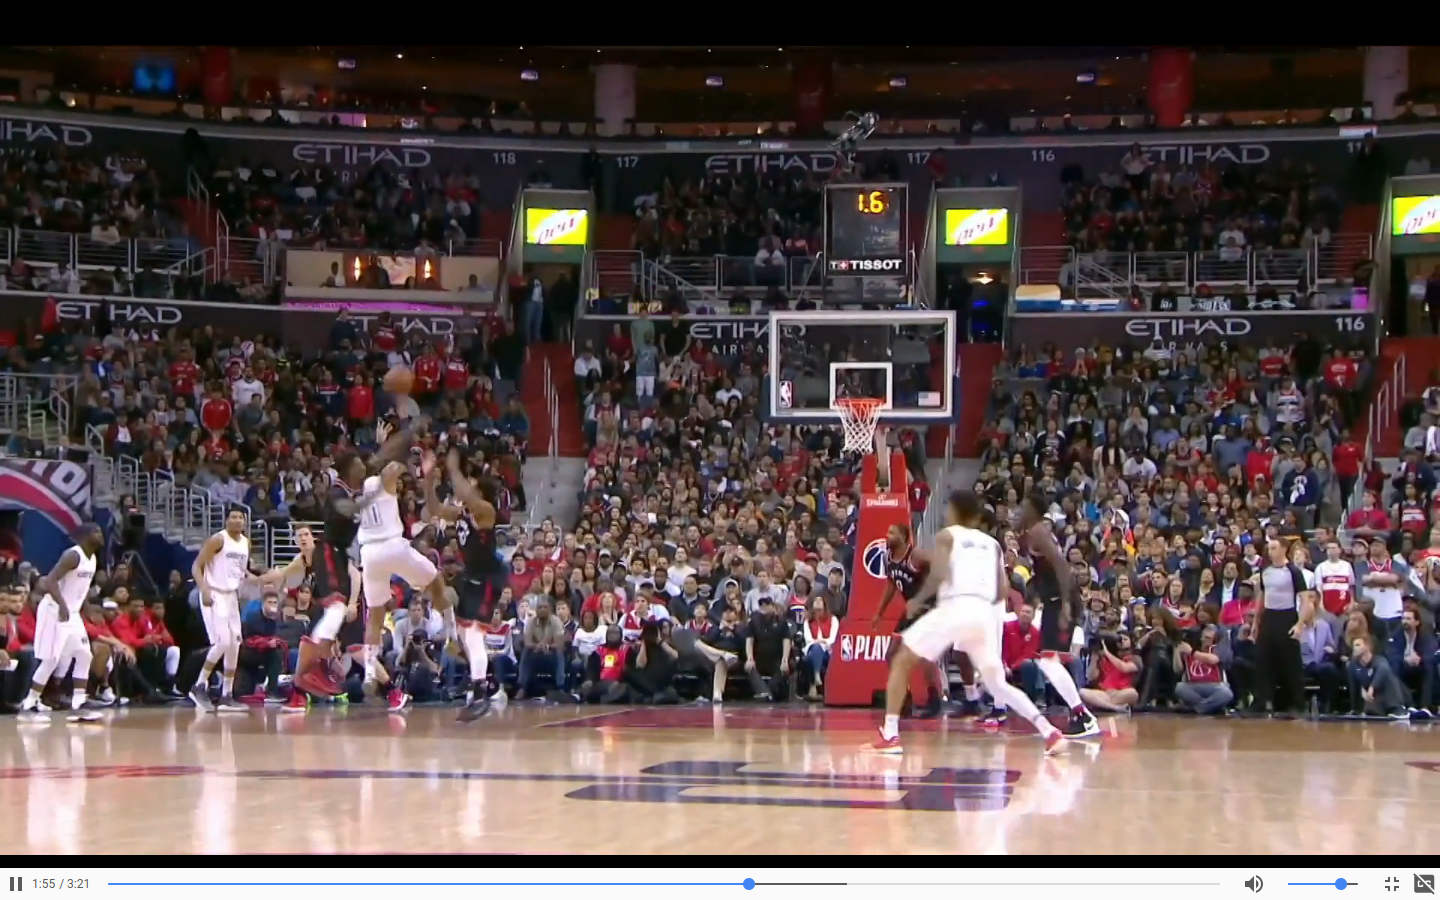basketball: (379, 357, 419, 402)
basketball player: (872, 480, 1019, 746), (364, 417, 459, 691), (1015, 492, 1113, 745), (285, 445, 364, 720), (19, 517, 115, 723), (448, 431, 505, 723), (187, 500, 256, 719), (875, 516, 930, 617)
referee: (1252, 537, 1310, 722)
